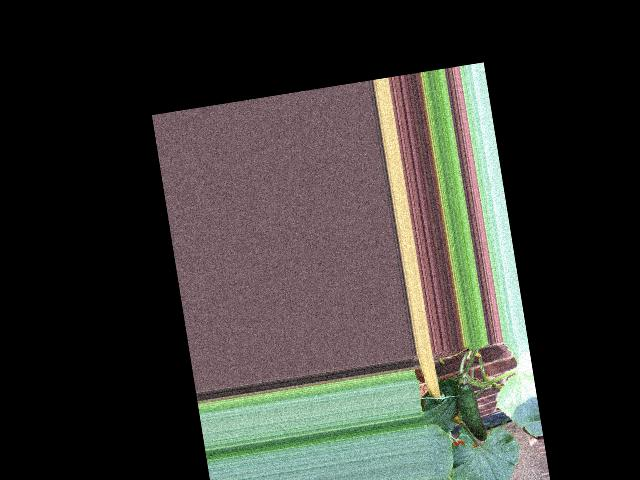cucumber: (455, 380, 488, 443)
